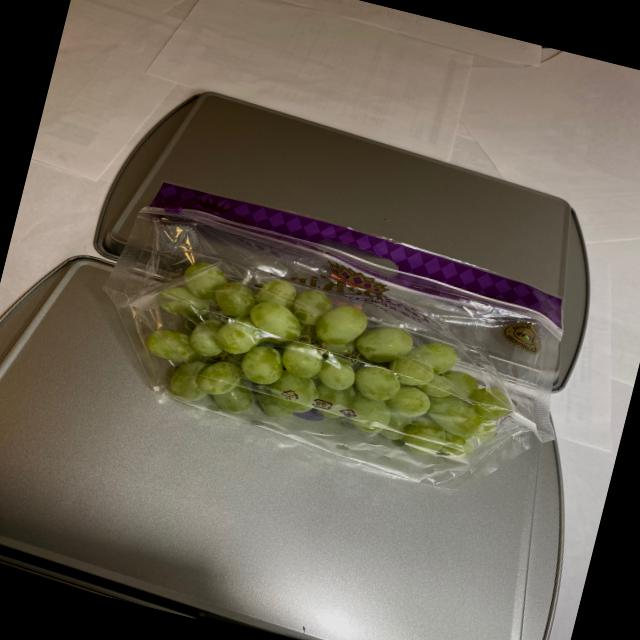grapes: (100, 245, 511, 485)
